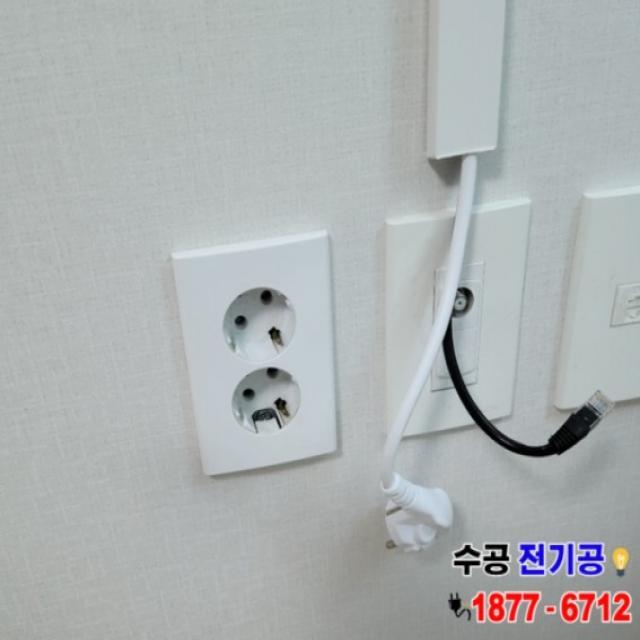typeb: (163, 208, 359, 490)
